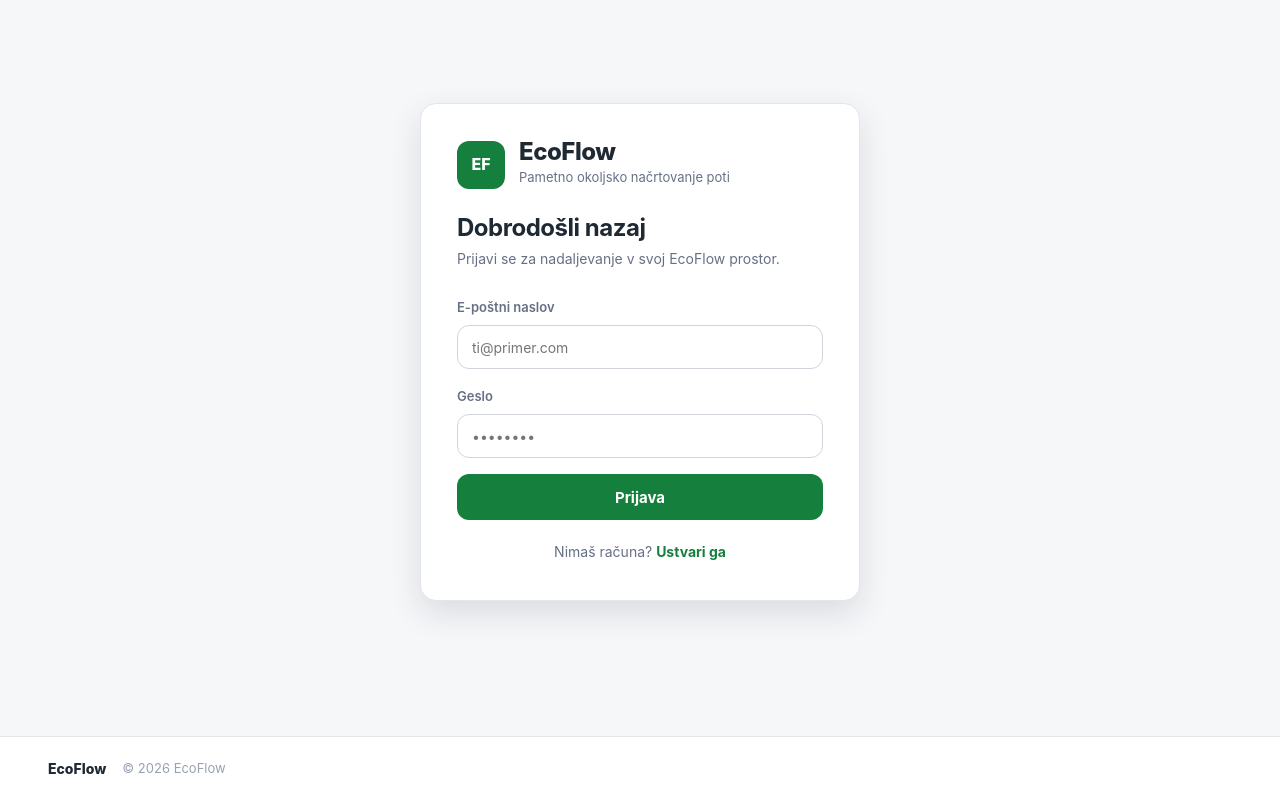
LoginPage › shows error when login fails
The width and height of the screenshot is (1280, 800).
Type "wrong@test.com" into the field labelled "E-poštni naslov" at (640,347), box [457,325,823,369]
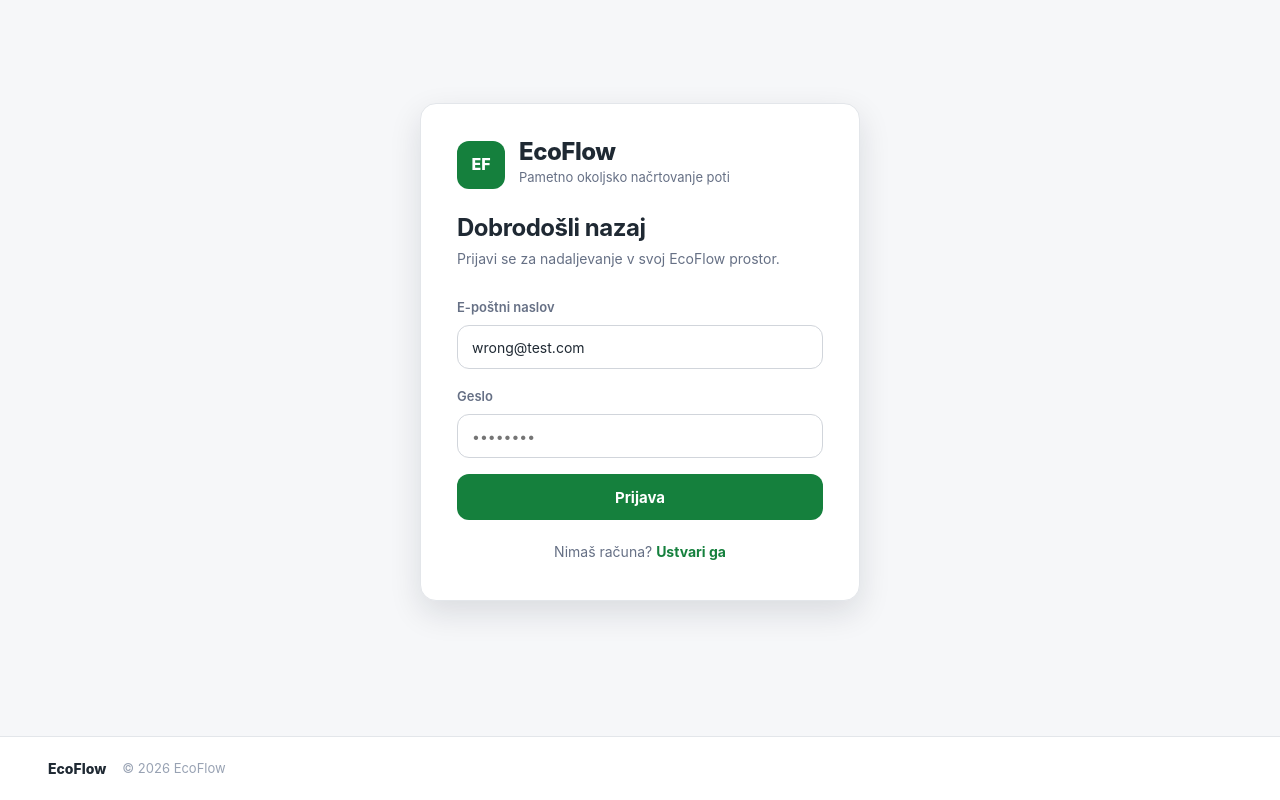
Type "wrongpass" into the password field labelled "Geslo" at (640,436), box [457,414,823,458]
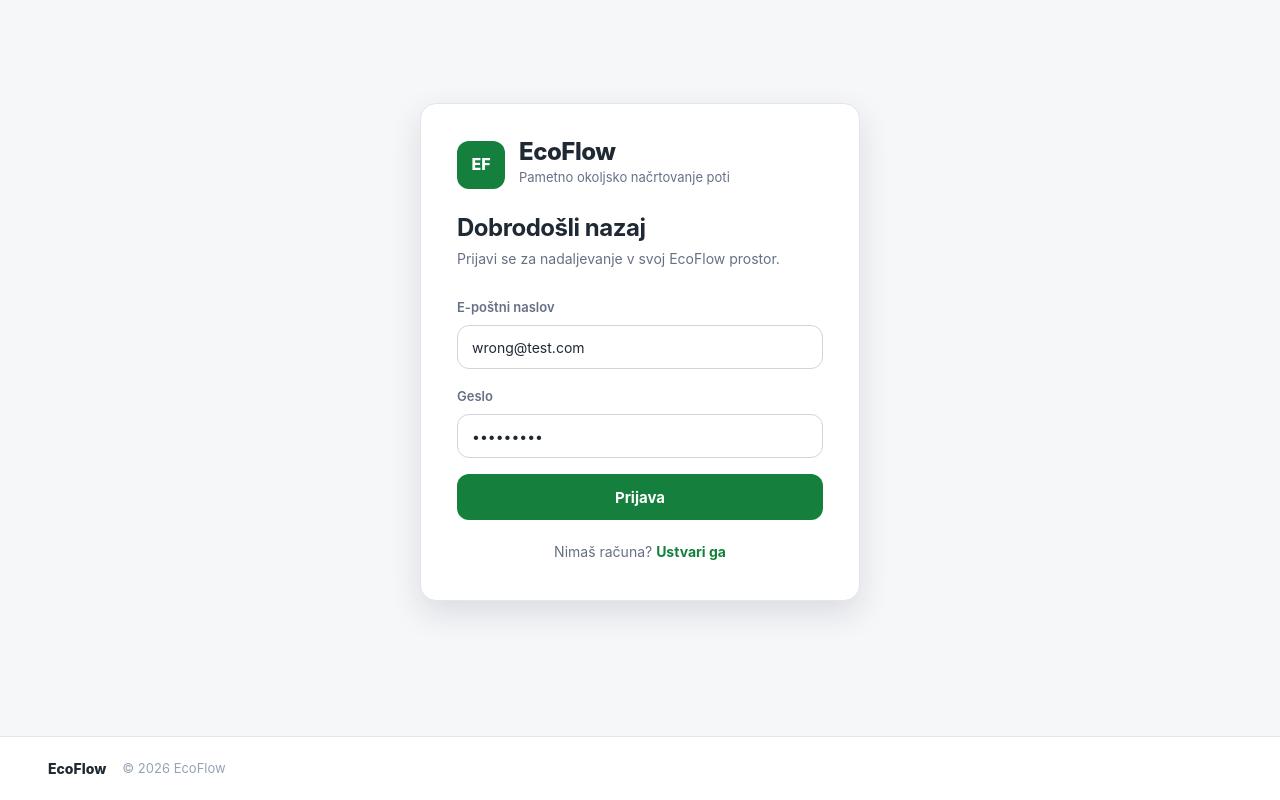
Click the button "Prijava" at (640,497), box [457,474,823,520]
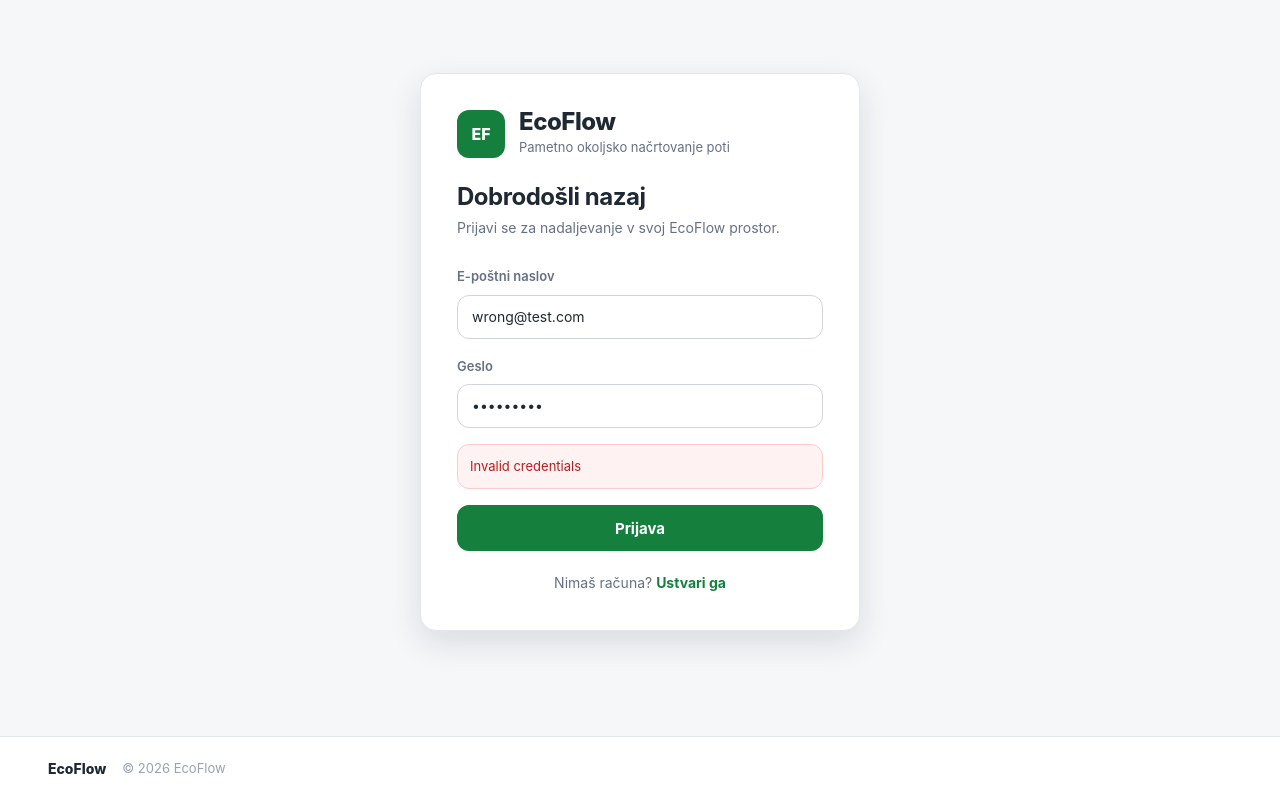
Check: the text "Invalid credentials" is shown, box [457,444,823,489]
